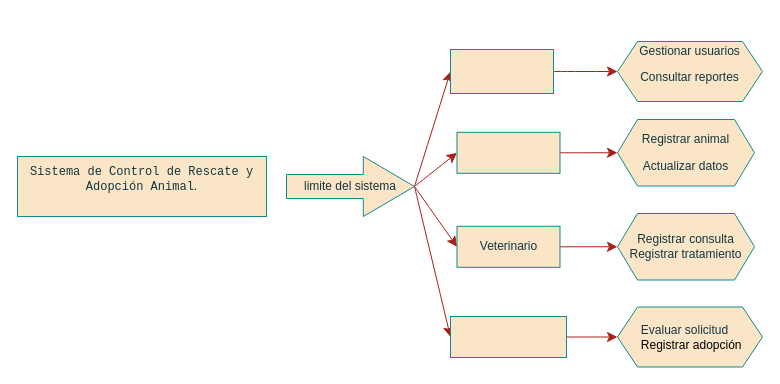
Some shapes in this 780 by 384 pixel diagram are drawn without their labels. The box of each missing label's shape, as (x1, y1, x2, y2) in pixels:
administrador: (450, 48, 554, 94)
personal rescate: (456, 131, 560, 173)
Responsable de adopciones: (450, 316, 566, 358)
